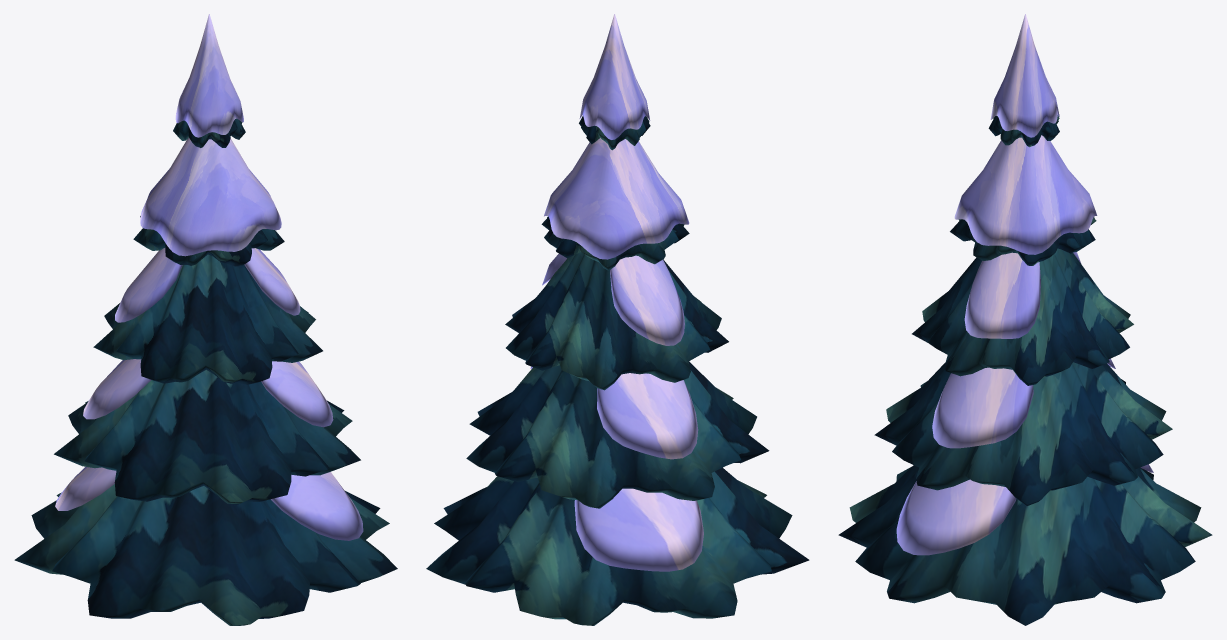
Rendered from snow_pine.glb.
3 renders of one model, left to right at view 1: azimuth 30°, elevation 25°; view 2: azimuth 150°, elevation 25°; view 3: azimuth 270°, elevation 25°, orthographic.
Parts seen in each view (by area): view 1: Solid drooping fir sprays, Solid drooping fir sprays.001, Solid drooping fir sprays.002, Connected irregular fir snow.003, Connected irregular fir snow, Connected irregular fir snow.001, Connected irregular fir snow.004, Connected irregular fir snow.002, Solid drooping fir sprays.003, Solid drooping fir sprays.004; view 2: Solid drooping fir sprays, Solid drooping fir sprays.001, Solid drooping fir sprays.002, Connected irregular fir snow.003, Connected irregular fir snow, Connected irregular fir snow.001, Connected irregular fir snow.002, Connected irregular fir snow.004, Solid drooping fir sprays.003, Solid drooping fir sprays.004; view 3: Solid drooping fir sprays, Solid drooping fir sprays.001, Solid drooping fir sprays.002, Connected irregular fir snow.003, Connected irregular fir snow, Connected irregular fir snow.001, Connected irregular fir snow.002, Connected irregular fir snow.004, Solid drooping fir sprays.003, Solid drooping fir sprays.004.
Boxes of the visible parts, <box> form: Solid drooping fir sprays: <box>14,484,397,625</box>; Solid drooping fir sprays.001: <box>54,369,360,504</box>; Solid drooping fir sprays.002: <box>93,254,322,384</box>; Connected irregular fir snow.003: <box>140,137,281,256</box>; Connected irregular fir snow: <box>55,466,363,540</box>; Connected irregular fir snow.001: <box>83,359,333,427</box>; Connected irregular fir snow.004: <box>175,14,243,137</box>; Connected irregular fir snow.002: <box>115,248,300,322</box>; Solid drooping fir sprays.003: <box>133,216,284,266</box>; Solid drooping fir sprays.004: <box>173,118,245,147</box>; Solid drooping fir sprays: <box>426,467,809,625</box>; Solid drooping fir sprays.001: <box>466,361,769,508</box>; Solid drooping fir sprays.002: <box>505,252,728,390</box>; Connected irregular fir snow.003: <box>544,138,689,259</box>; Connected irregular fir snow: <box>574,488,703,571</box>; Connected irregular fir snow.001: <box>530,366,698,459</box>; Connected irregular fir snow.002: <box>542,253,684,345</box>; Connected irregular fir snow.004: <box>579,14,650,139</box>; Solid drooping fir sprays.003: <box>541,216,689,270</box>; Solid drooping fir sprays.004: <box>579,116,650,150</box>; Solid drooping fir sprays: <box>838,465,1212,625</box>; Solid drooping fir sprays.001: <box>874,362,1172,505</box>; Solid drooping fir sprays.002: <box>912,248,1133,385</box>; Connected irregular fir snow.003: <box>954,135,1097,254</box>; Connected irregular fir snow: <box>896,464,1153,555</box>; Connected irregular fir snow.001: <box>932,358,1115,448</box>; Connected irregular fir snow.002: <box>964,252,1081,338</box>; Connected irregular fir snow.004: <box>990,14,1059,137</box>; Solid drooping fir sprays.003: <box>950,217,1096,265</box>; Solid drooping fir sprays.004: <box>988,115,1059,147</box>.
Bounding box in the file's own units: 3.63 × 6.05 × 3.63.
3 materials, 3 textured.
